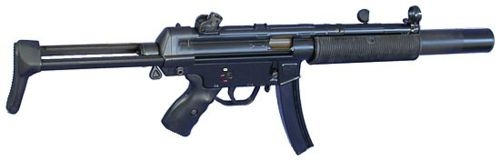rifle: (7, 5, 496, 146)
